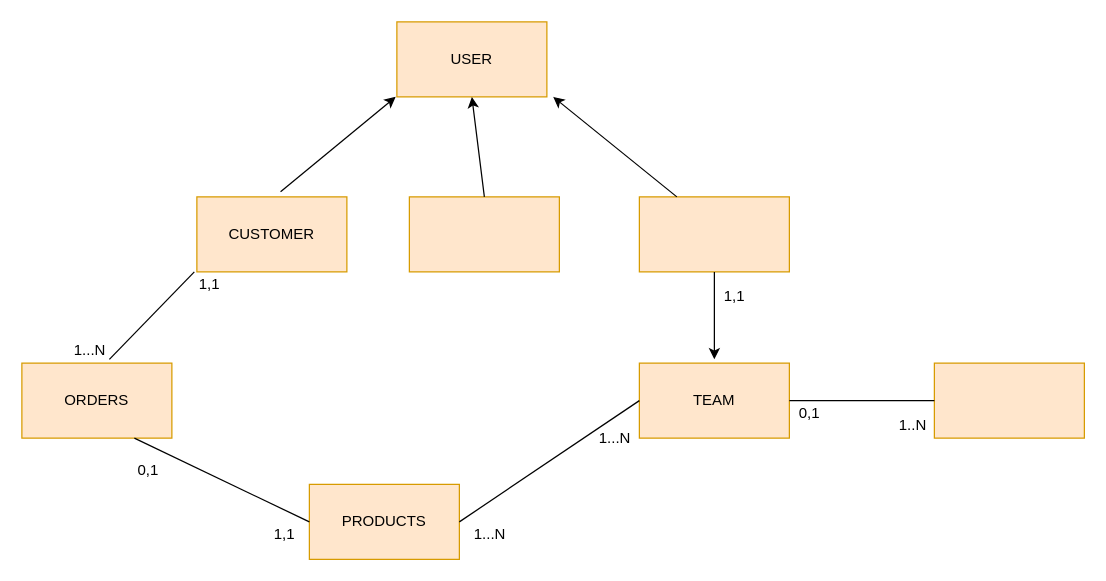
This 1106x581 diagram has some shape labels left out. The box of each missing label's shape, as (x1, y1, x2, y2) in pixels:
EMPLOYEE: (933, 362, 1084, 438)
SYSTEM ADMINISTRATOR: (408, 196, 559, 272)
TEAM LEADER: (638, 196, 789, 272)
